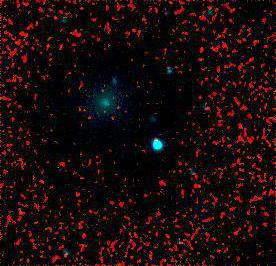star: (96, 83, 126, 113)
